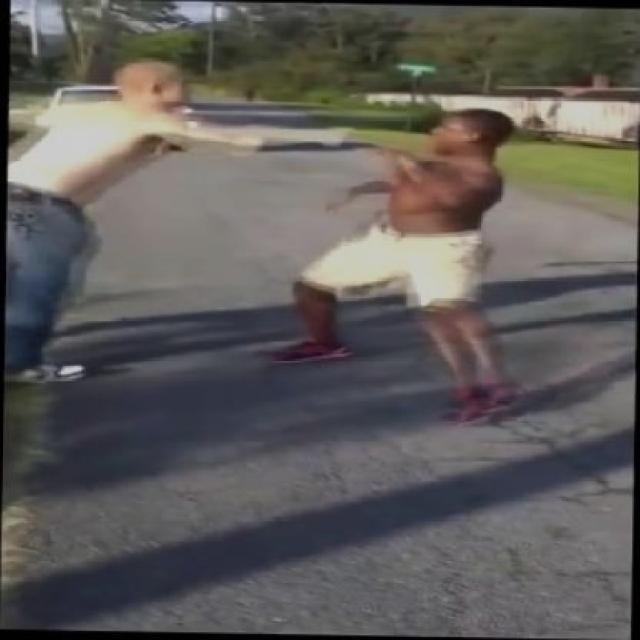fight: (0, 54, 534, 432)
